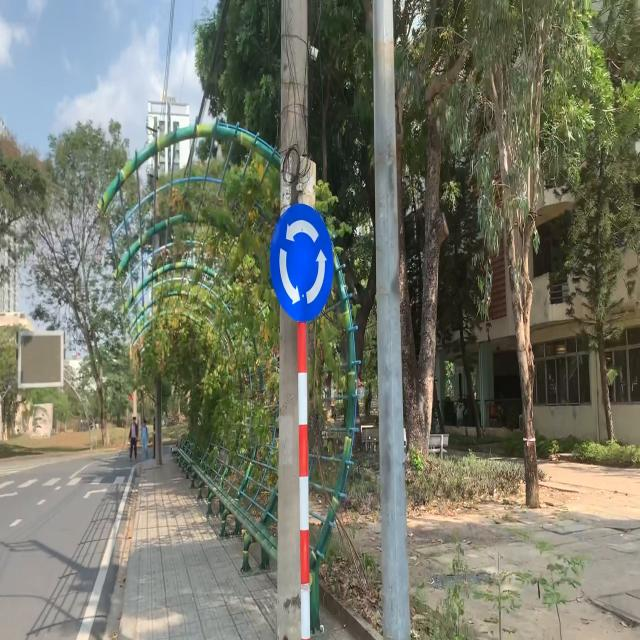Vong xuyen: (269, 202, 334, 324)
